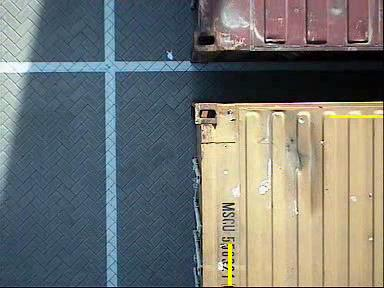groundmarker_2: (17, 37, 125, 121)
